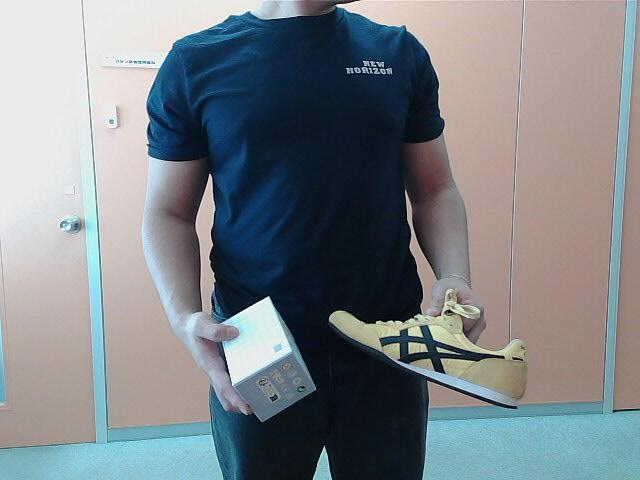Blind_box: (217, 290, 316, 422)
Shoes: (328, 302, 540, 409)
